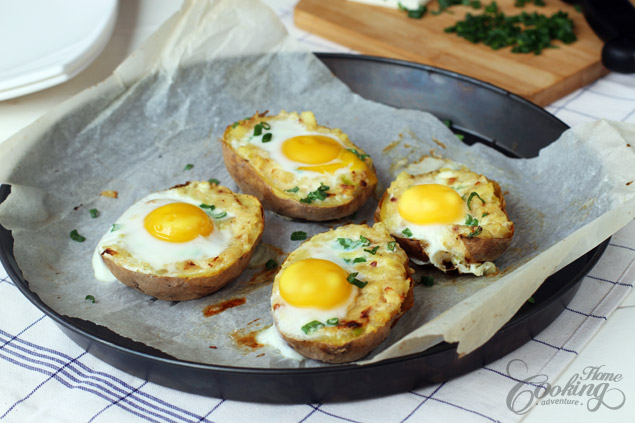fried egg: (121, 187, 218, 263), (284, 248, 367, 328), (268, 124, 356, 185), (399, 184, 466, 240)
slice of bread: (265, 223, 413, 363), (104, 175, 266, 298), (218, 105, 382, 221), (379, 149, 527, 262)
